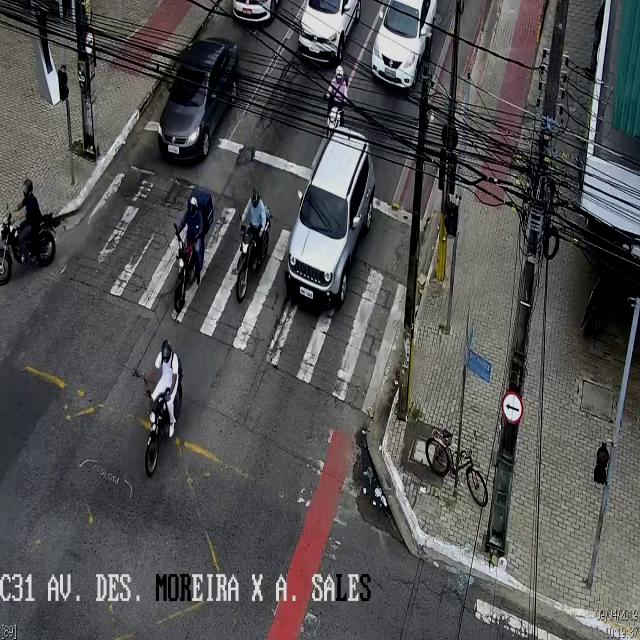Car: (285, 128, 376, 308), (370, 3, 438, 87), (299, 2, 361, 60), (218, 0, 285, 36)
Motorcycle: (158, 37, 238, 159), (0, 178, 58, 284), (144, 340, 182, 478), (174, 186, 212, 316), (235, 188, 271, 305), (322, 63, 349, 136)
